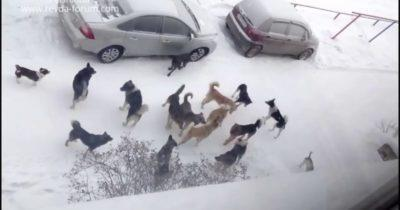normal_dogs: (162, 82, 206, 129), (65, 120, 114, 156), (118, 79, 150, 128), (71, 62, 97, 110), (201, 82, 238, 115), (262, 97, 290, 140), (178, 119, 221, 145), (156, 133, 178, 181), (214, 139, 248, 170), (14, 63, 52, 88), (168, 48, 200, 77), (225, 119, 261, 144), (231, 83, 254, 110)
